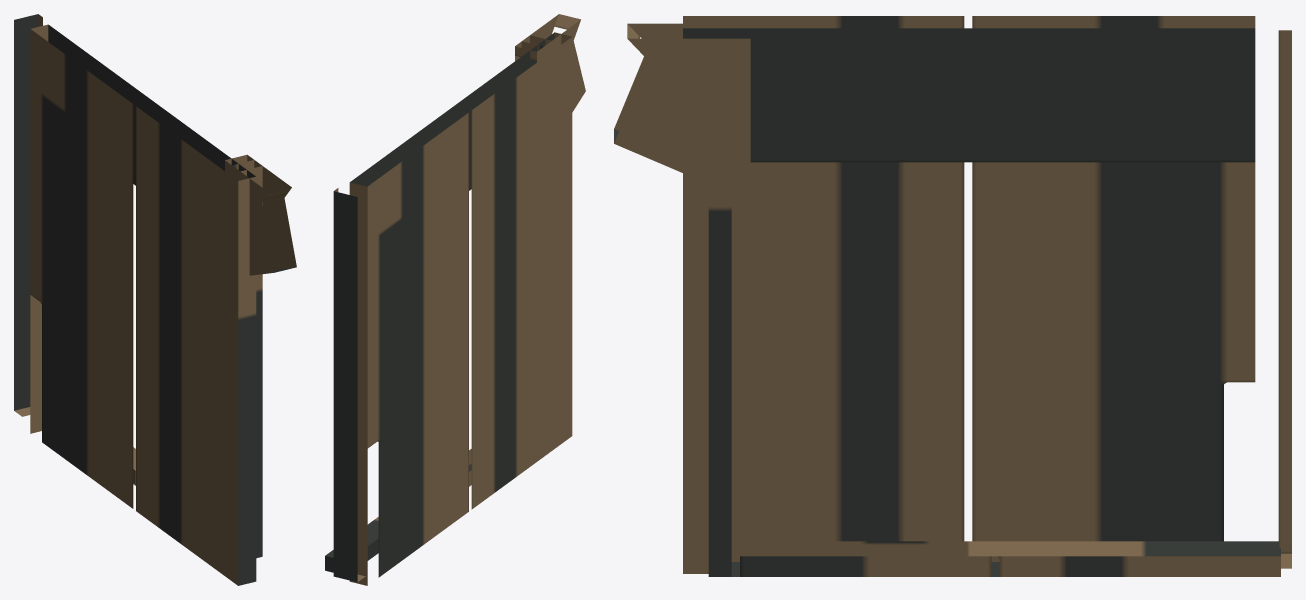
Rendered from section-5.obj.
3 renders of one model, left to right at view 1: azimuth 30°, elevation 25°; view 2: azimuth 150°, elevation 25°; view 3: azimuth 270°, elevation 25°, orthographic. The views are drawn at different scales.
Size of the model in its own units: 0.082 by 0.86 by 0.947.
